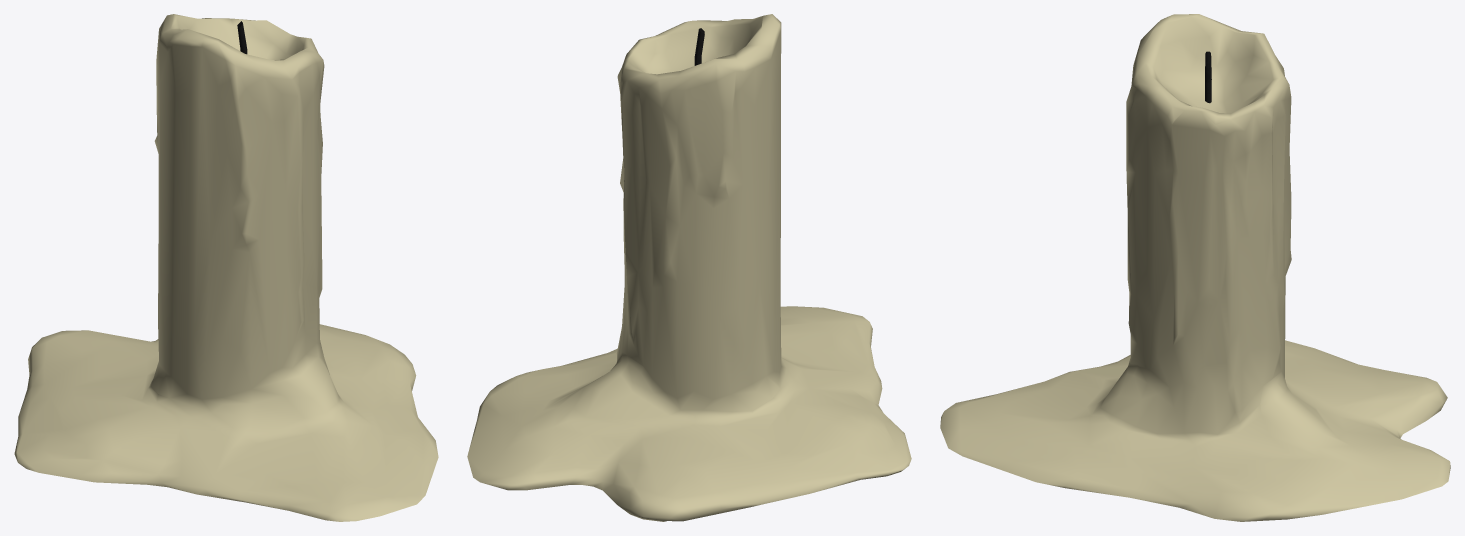
The model's file is SM_Candle_Used_B.fbx.
The picture shows the model from 3 angles, left to right: view 1: azimuth 30°, elevation 25°; view 2: azimuth 150°, elevation 25°; view 3: azimuth 270°, elevation 25°; orthographic projection. The views are drawn at different scales.
Visible parts, largest first — view 1: SM_Candle_Used_B_LOD0; view 2: SM_Candle_Used_B_LOD0; view 3: SM_Candle_Used_B_LOD0.
Boxes of the visible parts, <box> form: SM_Candle_Used_B_LOD0: <box>14,14,438,521</box>; SM_Candle_Used_B_LOD0: <box>467,14,911,521</box>; SM_Candle_Used_B_LOD0: <box>940,14,1450,521</box>.
Bounding box in the file's own units: 9.14 × 10.48 × 8.94.
1 material, 1 textured.
